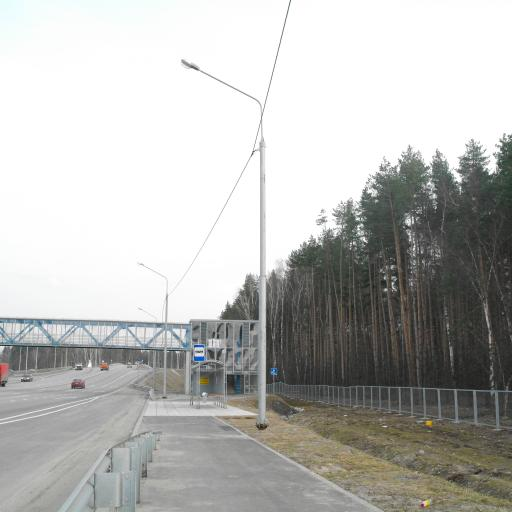Light-pole: (181, 46, 305, 456), (133, 239, 171, 419)
